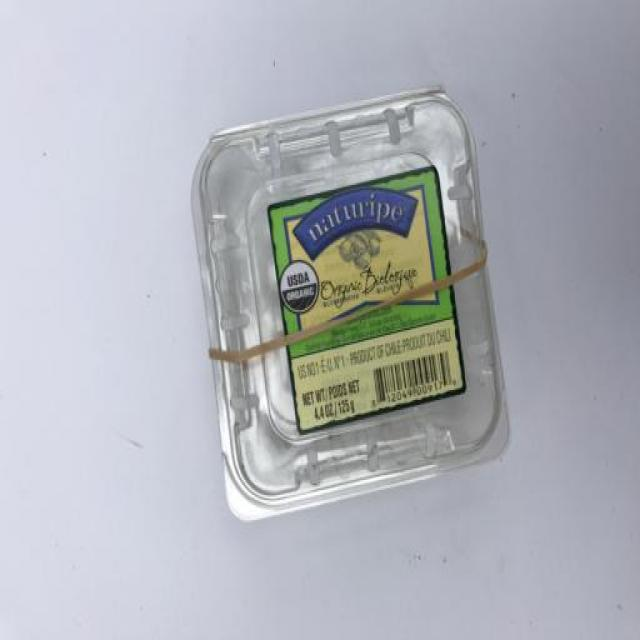plastic_bag: (184, 73, 518, 532)
